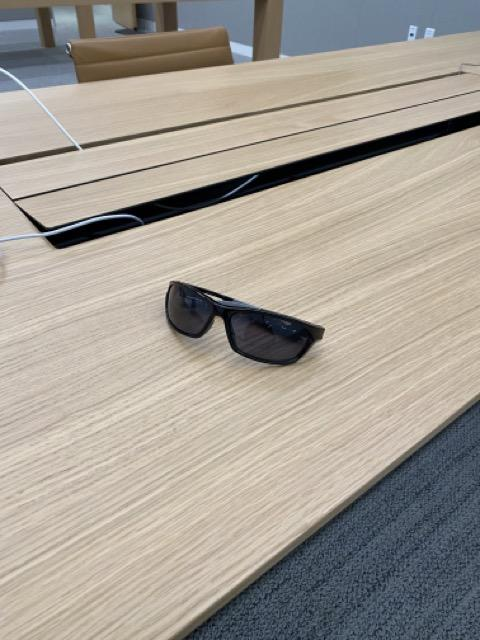Sunglasses: (166, 277, 325, 367)
